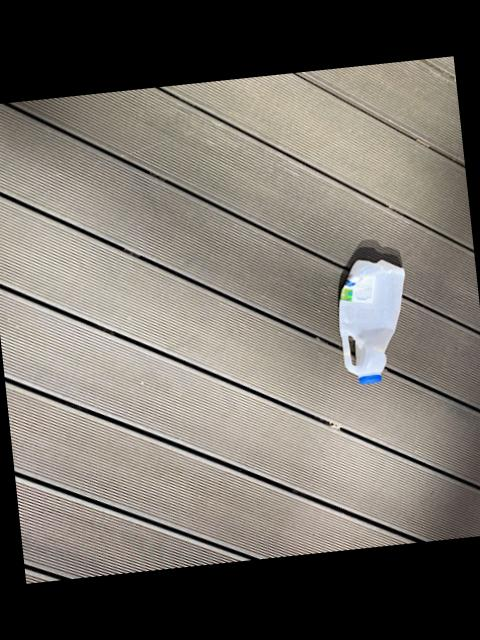plastic: (340, 259, 404, 382)
